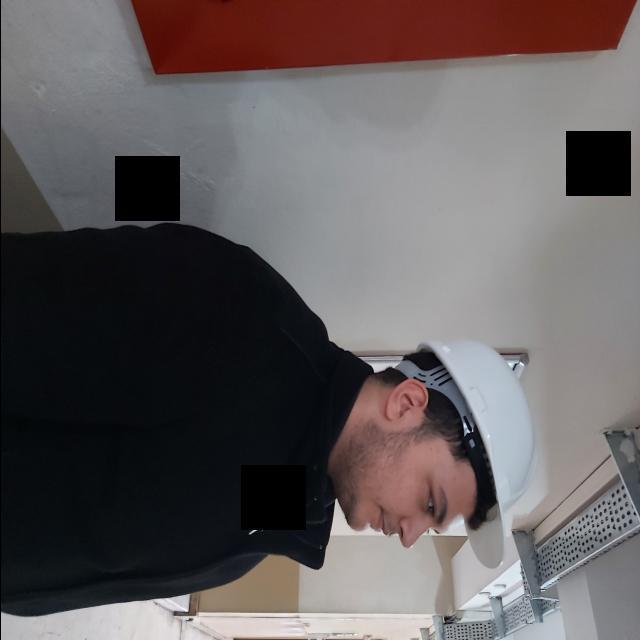white helmet: (416, 336, 541, 569)
